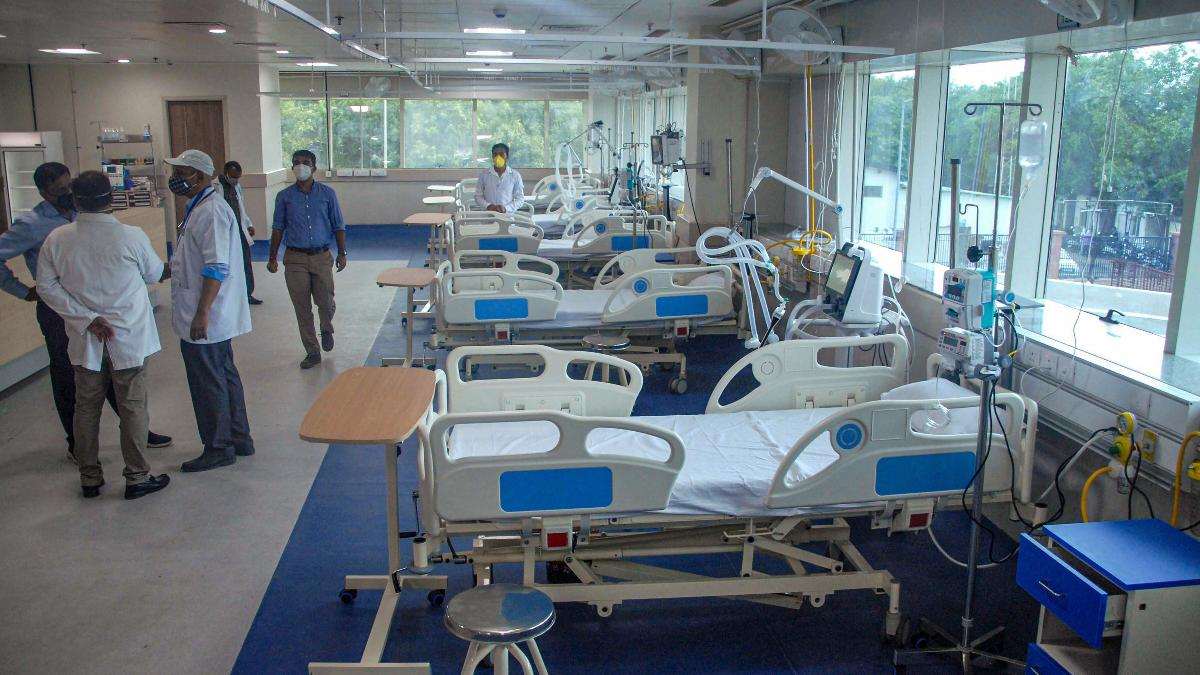trolley_bed: (302, 344, 1006, 643), (377, 246, 768, 399), (410, 207, 693, 286)
